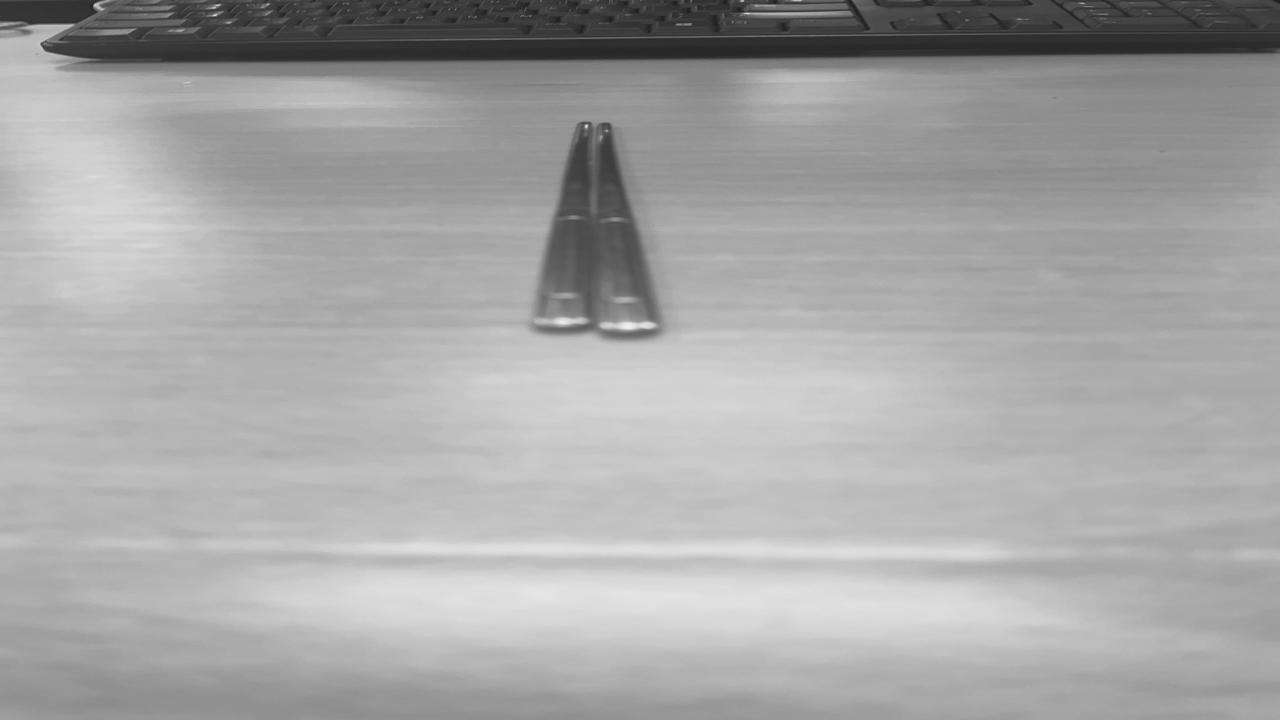chopstick: (536, 121, 656, 330)
